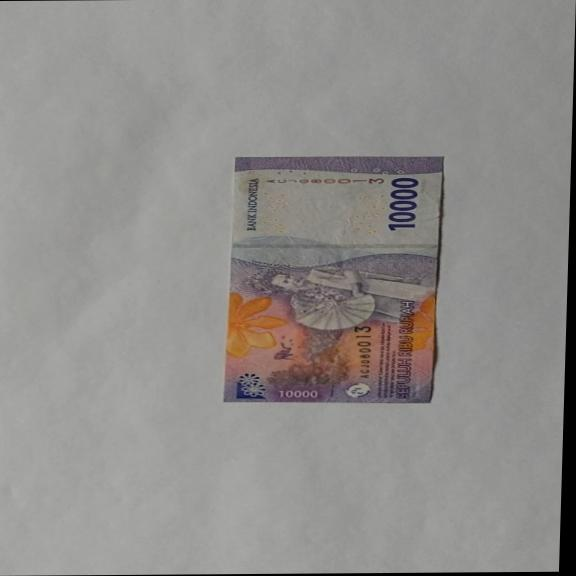Kertas: (221, 155, 445, 404), (385, 176, 420, 231)
